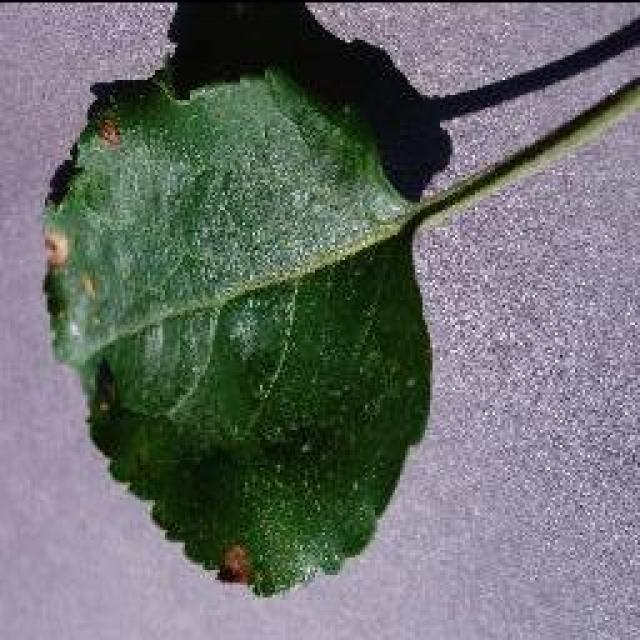Black_rot: (38, 0, 638, 598)
